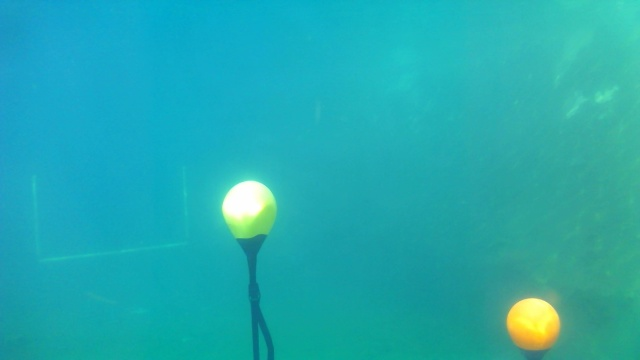channel: (28, 163, 189, 259)
